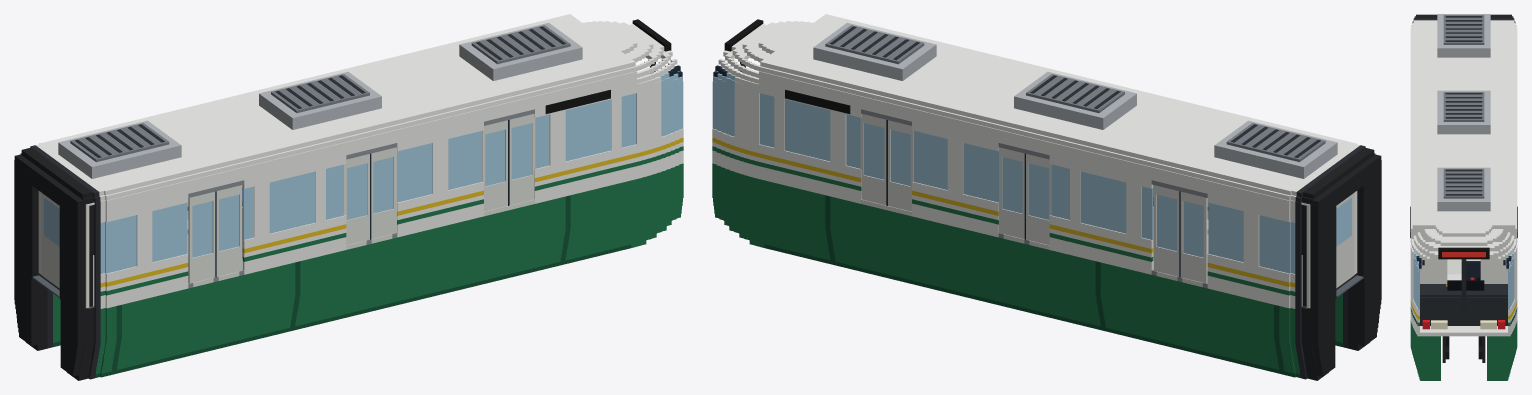
File: chongqing_front.obj
The picture shows the model from 3 angles, left to right: view 1: azimuth 30°, elevation 25°; view 2: azimuth 150°, elevation 25°; view 3: azimuth 270°, elevation 25°; orthographic projection. The views are drawn at different scales.
Parts seen in each view (by area): view 1: SHELL, SHELL_roof, SHELL_diaphragm, EXTERNAL_DOOR_3_CG_DR1_TOGGLE_TL_-0.59_X, EXTERNAL_DOOR_15_CG_DR3_TOGGLE_TL_-0.59_X, EXTERNAL_DOOR_9_CG_DR2_TOGGLE_TL_-0.59_X, EXTERNAL_DOOR_4_CG_DR1_TOGGLE_TL_0.59_X, EXTERNAL_DOOR_16_CG_DR3_TOGGLE_TL_0.59_X, EXTERNAL_DOOR_10_CG_DR2_TOGGLE_TL_0.59_X, CONNECTING_DOOR_1_CG_CR_TOGGLE_TL_0.98_Z, SHELL_end, SHELL_sign; view 2: SHELL, SHELL_roof, SHELL_diaphragm, EXTERNAL_DOOR_6_CG_DL1_TOGGLE_TL_-0.59_X, EXTERNAL_DOOR_18_CG_DL3_TOGGLE_TL_-0.59_X, EXTERNAL_DOOR_12_CG_DL2_TOGGLE_TL_-0.59_X, EXTERNAL_DOOR_7_CG_DL1_TOGGLE_TL_0.59_X, EXTERNAL_DOOR_19_CG_DL3_TOGGLE_TL_0.59_X, EXTERNAL_DOOR_13_CG_DL2_TOGGLE_TL_0.59_X, CONNECTING_DOOR_1_CG_CR_TOGGLE_TL_0.98_Z, SHELL_end, SHELL_sign; view 3: SHELL, SHELL_roof, SHELL_desk, SHELL_cabwall, SHELL_front, BOGEY_FRONT, HEADLIGHT_1, SHELL_cabseat, SHELL_lights.
Boxes of the visible parts, x1,y1,x2,y2 form: SHELL: (20,14,683,380); SHELL_roof: (58,22,582,178); SHELL_diaphragm: (14,154,83,376); EXTERNAL_DOOR_3_CG_DR1_TOGGLE_TL_-0.59_X: (188,191,216,283); EXTERNAL_DOOR_15_CG_DR3_TOGGLE_TL_-0.59_X: (482,120,509,211); EXTERNAL_DOOR_9_CG_DR2_TOGGLE_TL_-0.59_X: (344,153,371,245); EXTERNAL_DOOR_4_CG_DR1_TOGGLE_TL_0.59_X: (216,185,242,276); EXTERNAL_DOOR_16_CG_DR3_TOGGLE_TL_0.59_X: (509,113,535,205); EXTERNAL_DOOR_10_CG_DR2_TOGGLE_TL_0.59_X: (371,147,396,239); CONNECTING_DOOR_1_CG_CR_TOGGLE_TL_0.98_Z: (41,193,59,288); SHELL_end: (38,191,89,308); SHELL_sign: (545,89,610,113); SHELL: (712,14,1375,380); SHELL_roof: (813,22,1337,178); SHELL_diaphragm: (1312,154,1381,376); EXTERNAL_DOOR_6_CG_DL1_TOGGLE_TL_-0.59_X: (1179,191,1207,283); EXTERNAL_DOOR_18_CG_DL3_TOGGLE_TL_-0.59_X: (886,120,913,211); EXTERNAL_DOOR_12_CG_DL2_TOGGLE_TL_-0.59_X: (1024,153,1051,245); EXTERNAL_DOOR_7_CG_DL1_TOGGLE_TL_0.59_X: (1153,185,1179,276); EXTERNAL_DOOR_19_CG_DL3_TOGGLE_TL_0.59_X: (860,113,886,205); EXTERNAL_DOOR_13_CG_DL2_TOGGLE_TL_0.59_X: (999,147,1024,239); CONNECTING_DOOR_1_CG_CR_TOGGLE_TL_0.98_Z: (1336,193,1354,288); SHELL_end: (1306,191,1357,308); SHELL_sign: (785,89,850,113); SHELL: (1410,14,1517,380); SHELL_roof: (1437,14,1490,211); SHELL_desk: (1420,280,1507,325); SHELL_cabwall: (1413,232,1514,283); SHELL_front: (1438,247,1489,311); BOGEY_FRONT: (1442,336,1485,362); HEADLIGHT_1: (1431,320,1496,329); SHELL_cabseat: (1466,261,1480,280); SHELL_lights: (1422,320,1505,329).
Bounding box in the file's own units: 14.99 × 4.8 × 2.92.
Materials: 1 (1 with a texture image).
